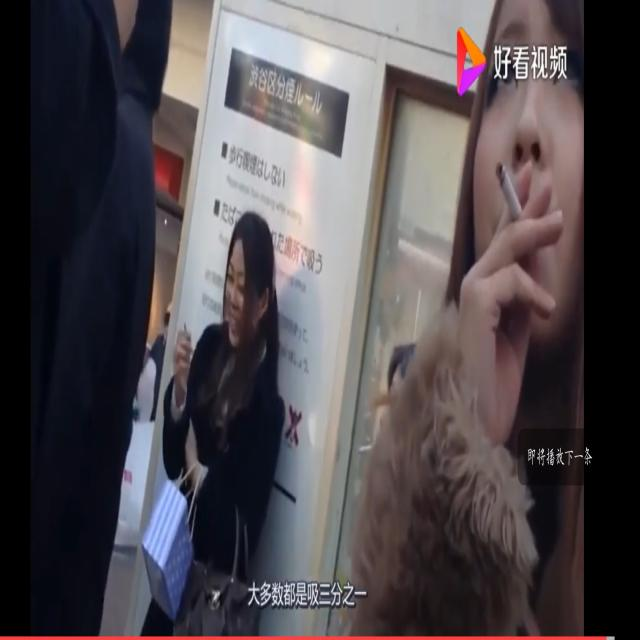cigarette: (495, 158, 526, 236), (182, 320, 192, 345)
